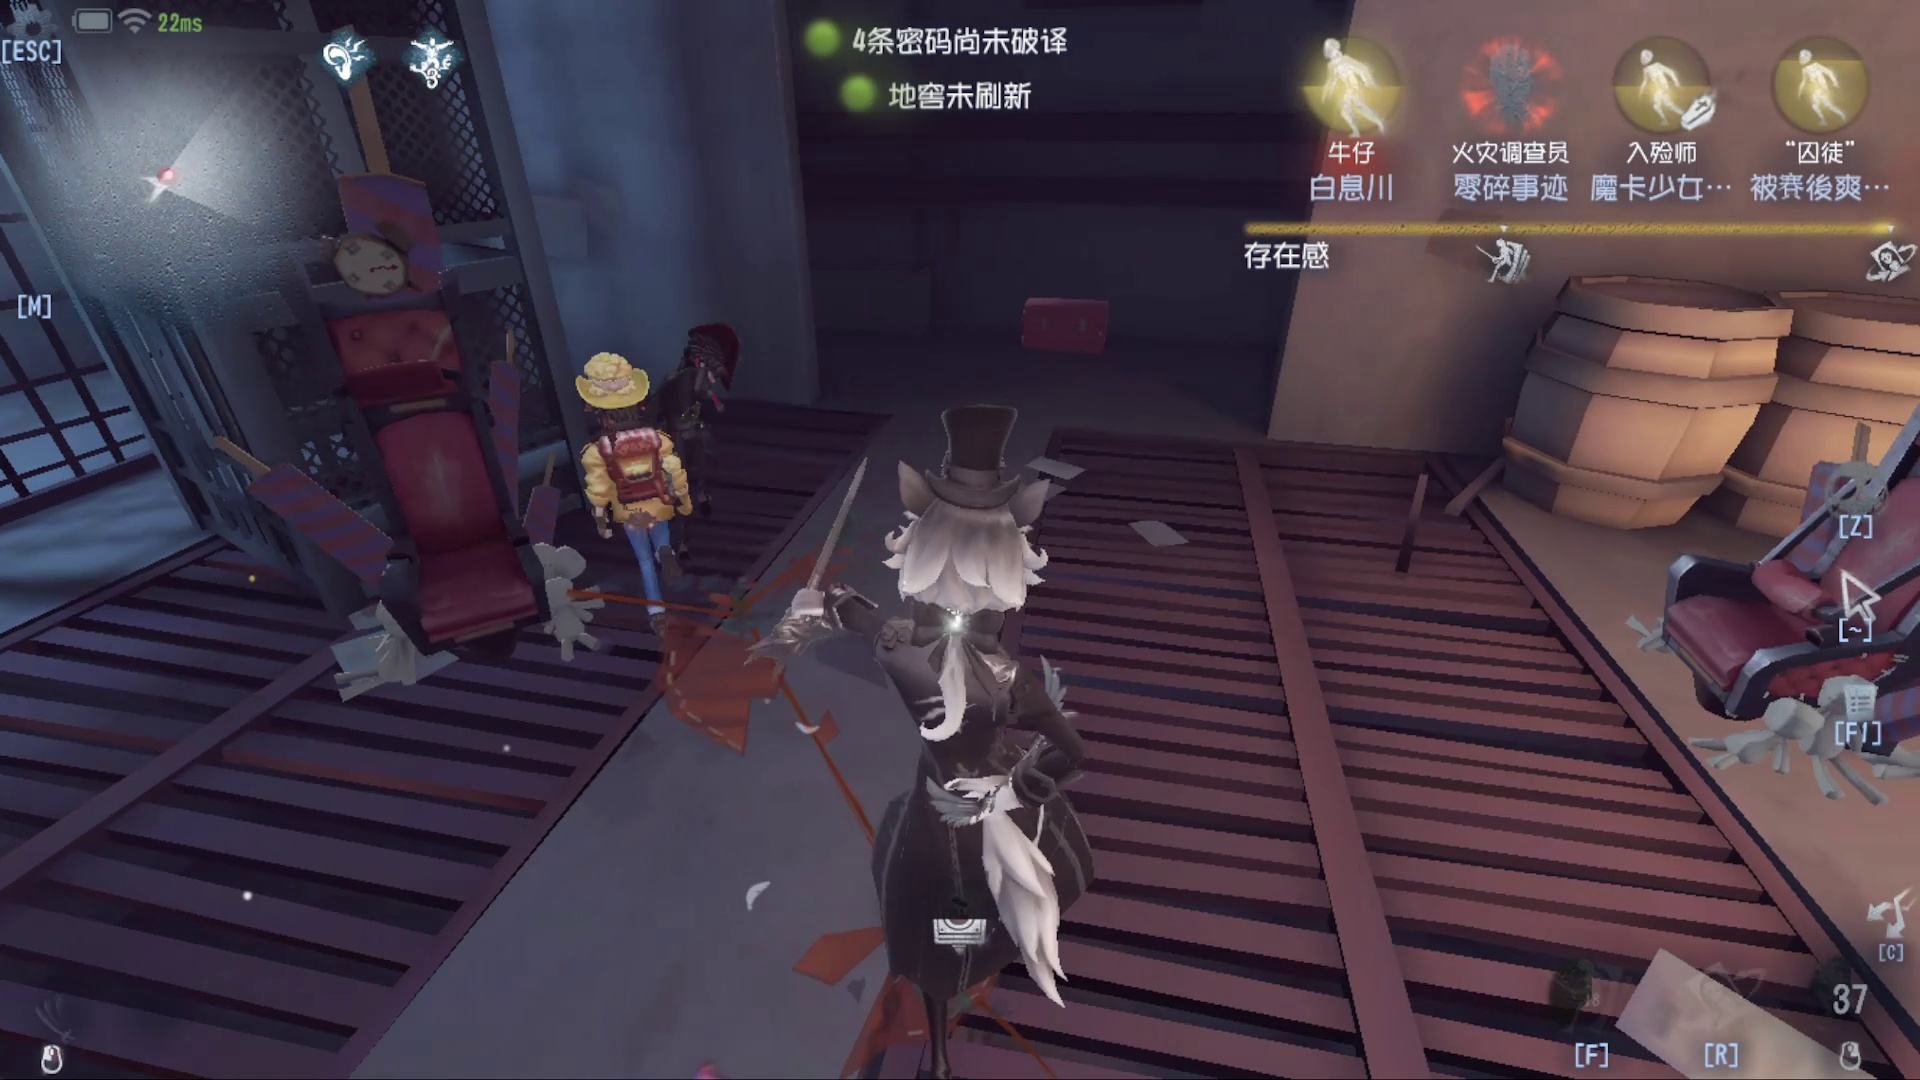狂欢之椅: (204, 164, 582, 688)
